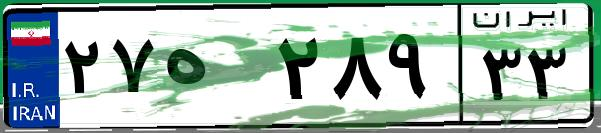2: (270, 28, 330, 110), (57, 26, 110, 100)
3: (475, 38, 525, 113), (525, 38, 570, 115)
7: (110, 28, 158, 98)
8: (330, 28, 385, 110)
9: (385, 28, 445, 110)
ه: (158, 20, 270, 120)
